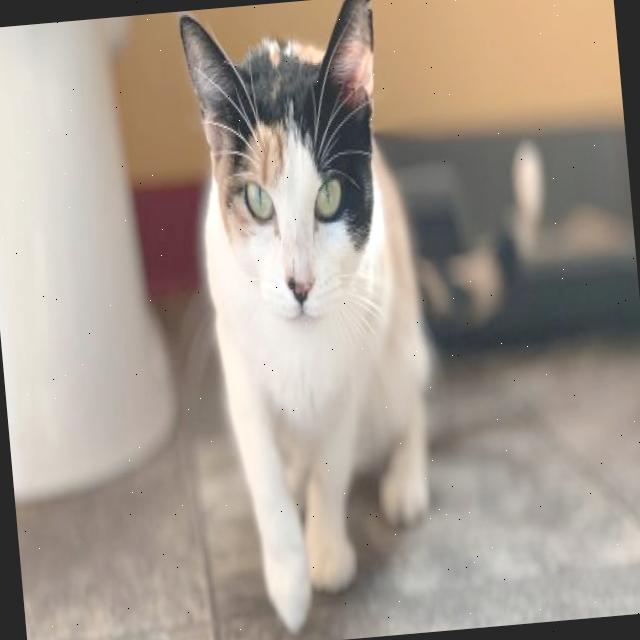calico_cat: (163, 0, 437, 402)
